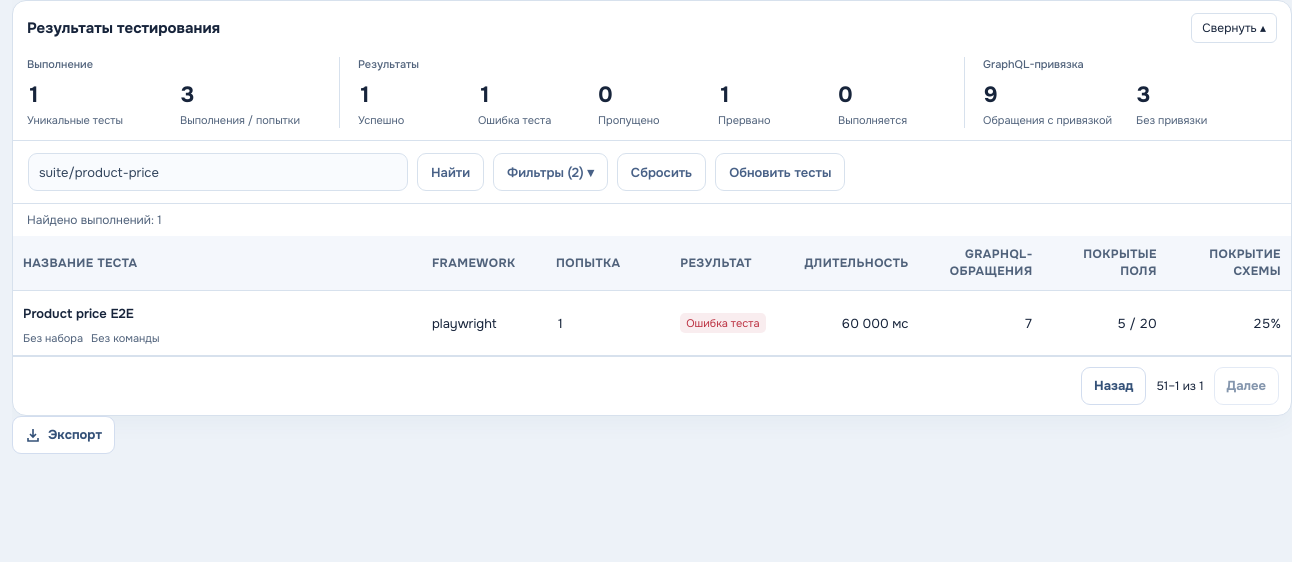
Test: handles historical tests without group keys and a filtered empty result
Click the button "Фильтры (2) ▾" at [550, 172], box [493,153,608,191]
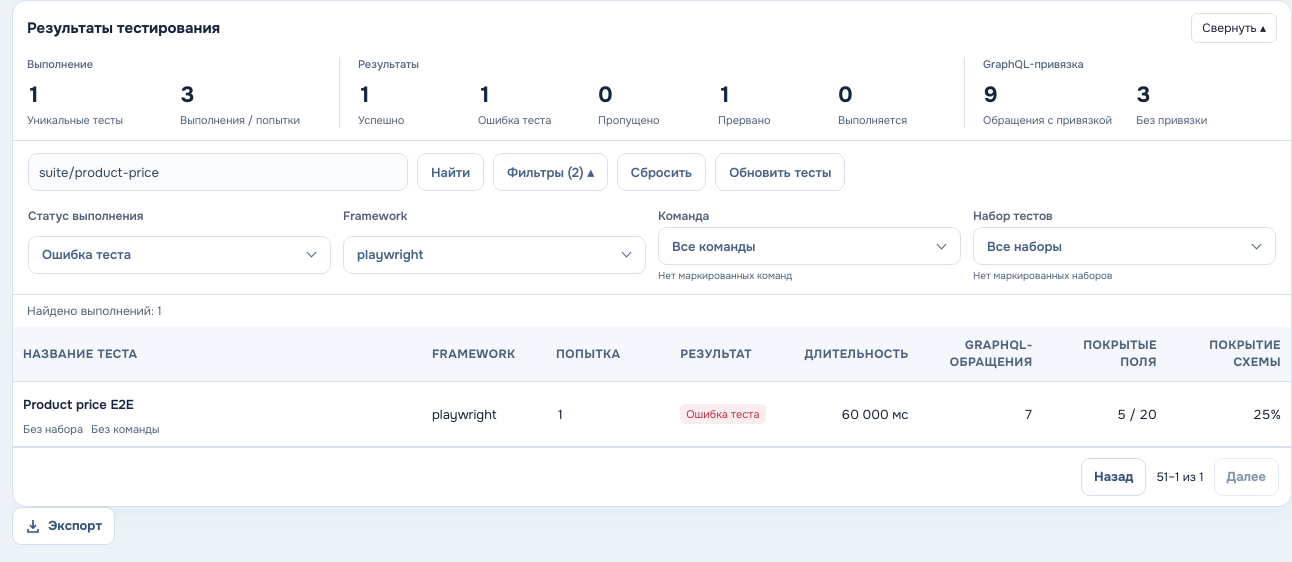
Click the dropdown labelled "Все команды" at [714, 246], box [658,227,961,265]
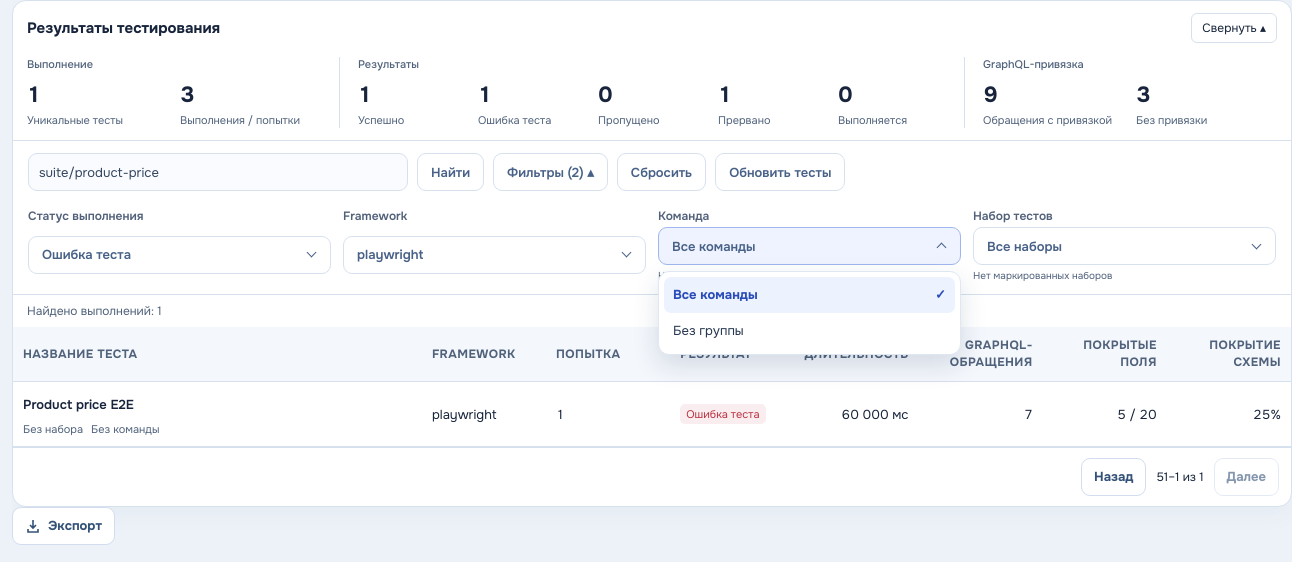
Click the option "Без группы" at [708, 331], box [673,322,744,339]
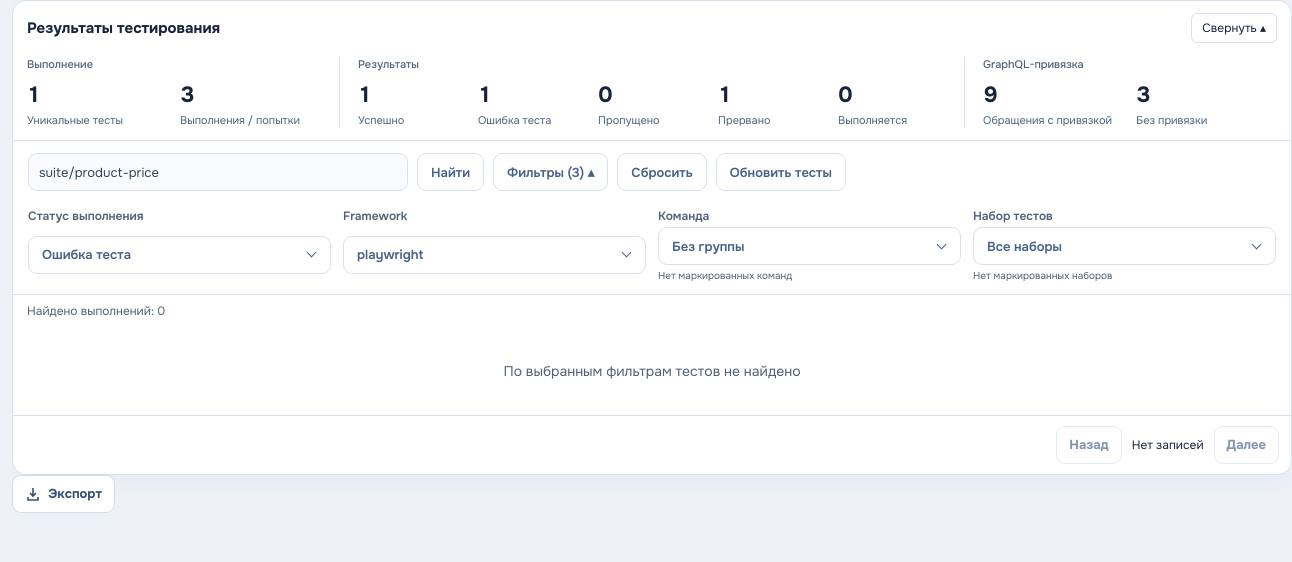
Result: the text "По выбранным фильтрам тестов не найдено" is shown at [504,362,801,380]
Result: the text "Найдено выполнений: 0" is shown at [27,303,165,319]
